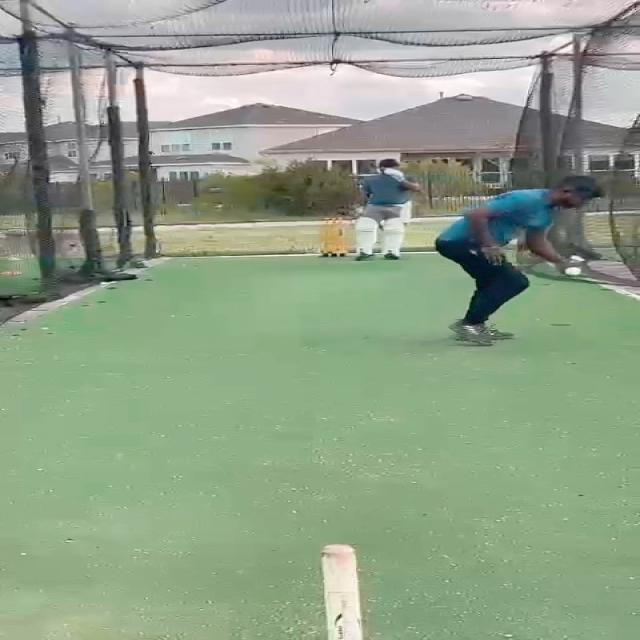batsman: (348, 156, 425, 262)
